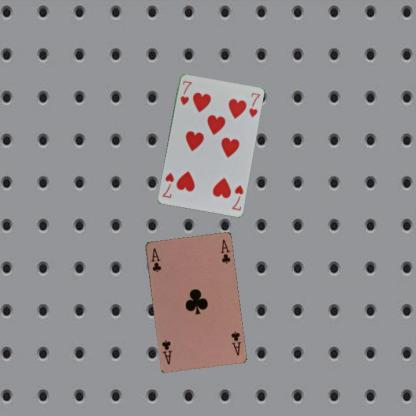7h: (177, 78, 193, 106), (230, 182, 244, 212)
Ac: (228, 329, 242, 357), (148, 246, 162, 273)
